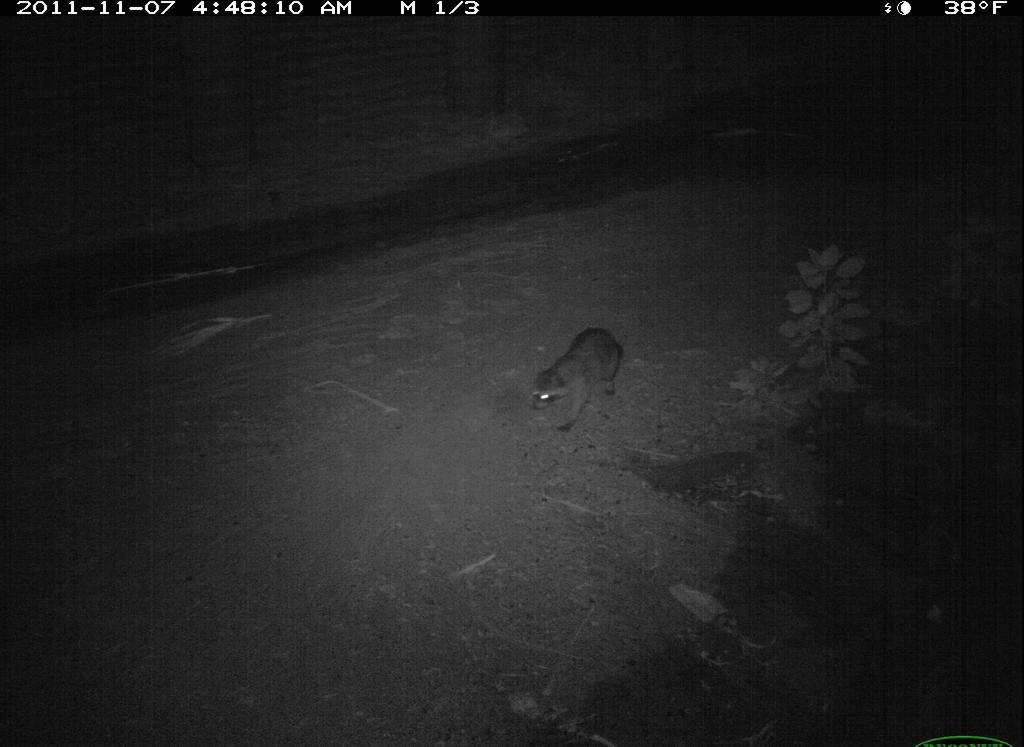raccoon: (511, 313, 652, 450)
